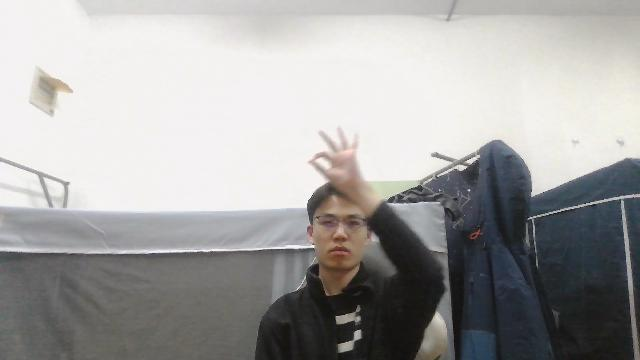ok: (306, 125, 363, 189)
